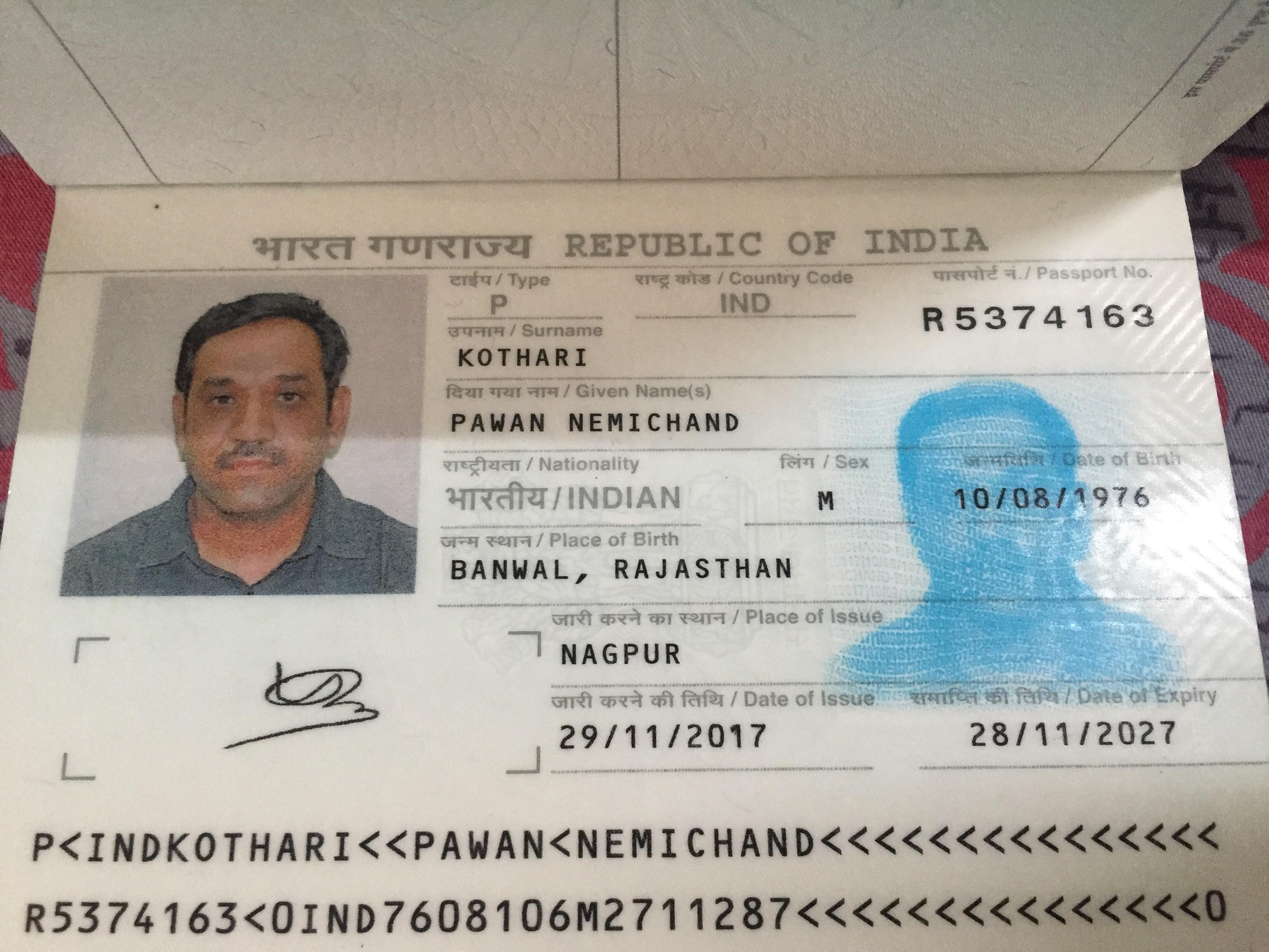DOB: (570, 704, 643, 879)
Surname: (770, 331, 827, 477)
country_code: (835, 528, 889, 589)
date_of_expiry: (246, 715, 323, 905)
date_of_issue: (246, 402, 325, 592)
details: (5, 3, 212, 927)
name: (674, 328, 734, 583)
nationality: (568, 325, 634, 528)
passport_no: (811, 681, 886, 882)
photo: (474, 45, 912, 314)
place_of_birth: (482, 328, 542, 617)
place_of_issue: (368, 410, 439, 523)
sex: (573, 595, 633, 638)
sign: (249, 136, 411, 304)
type: (832, 353, 888, 395)
